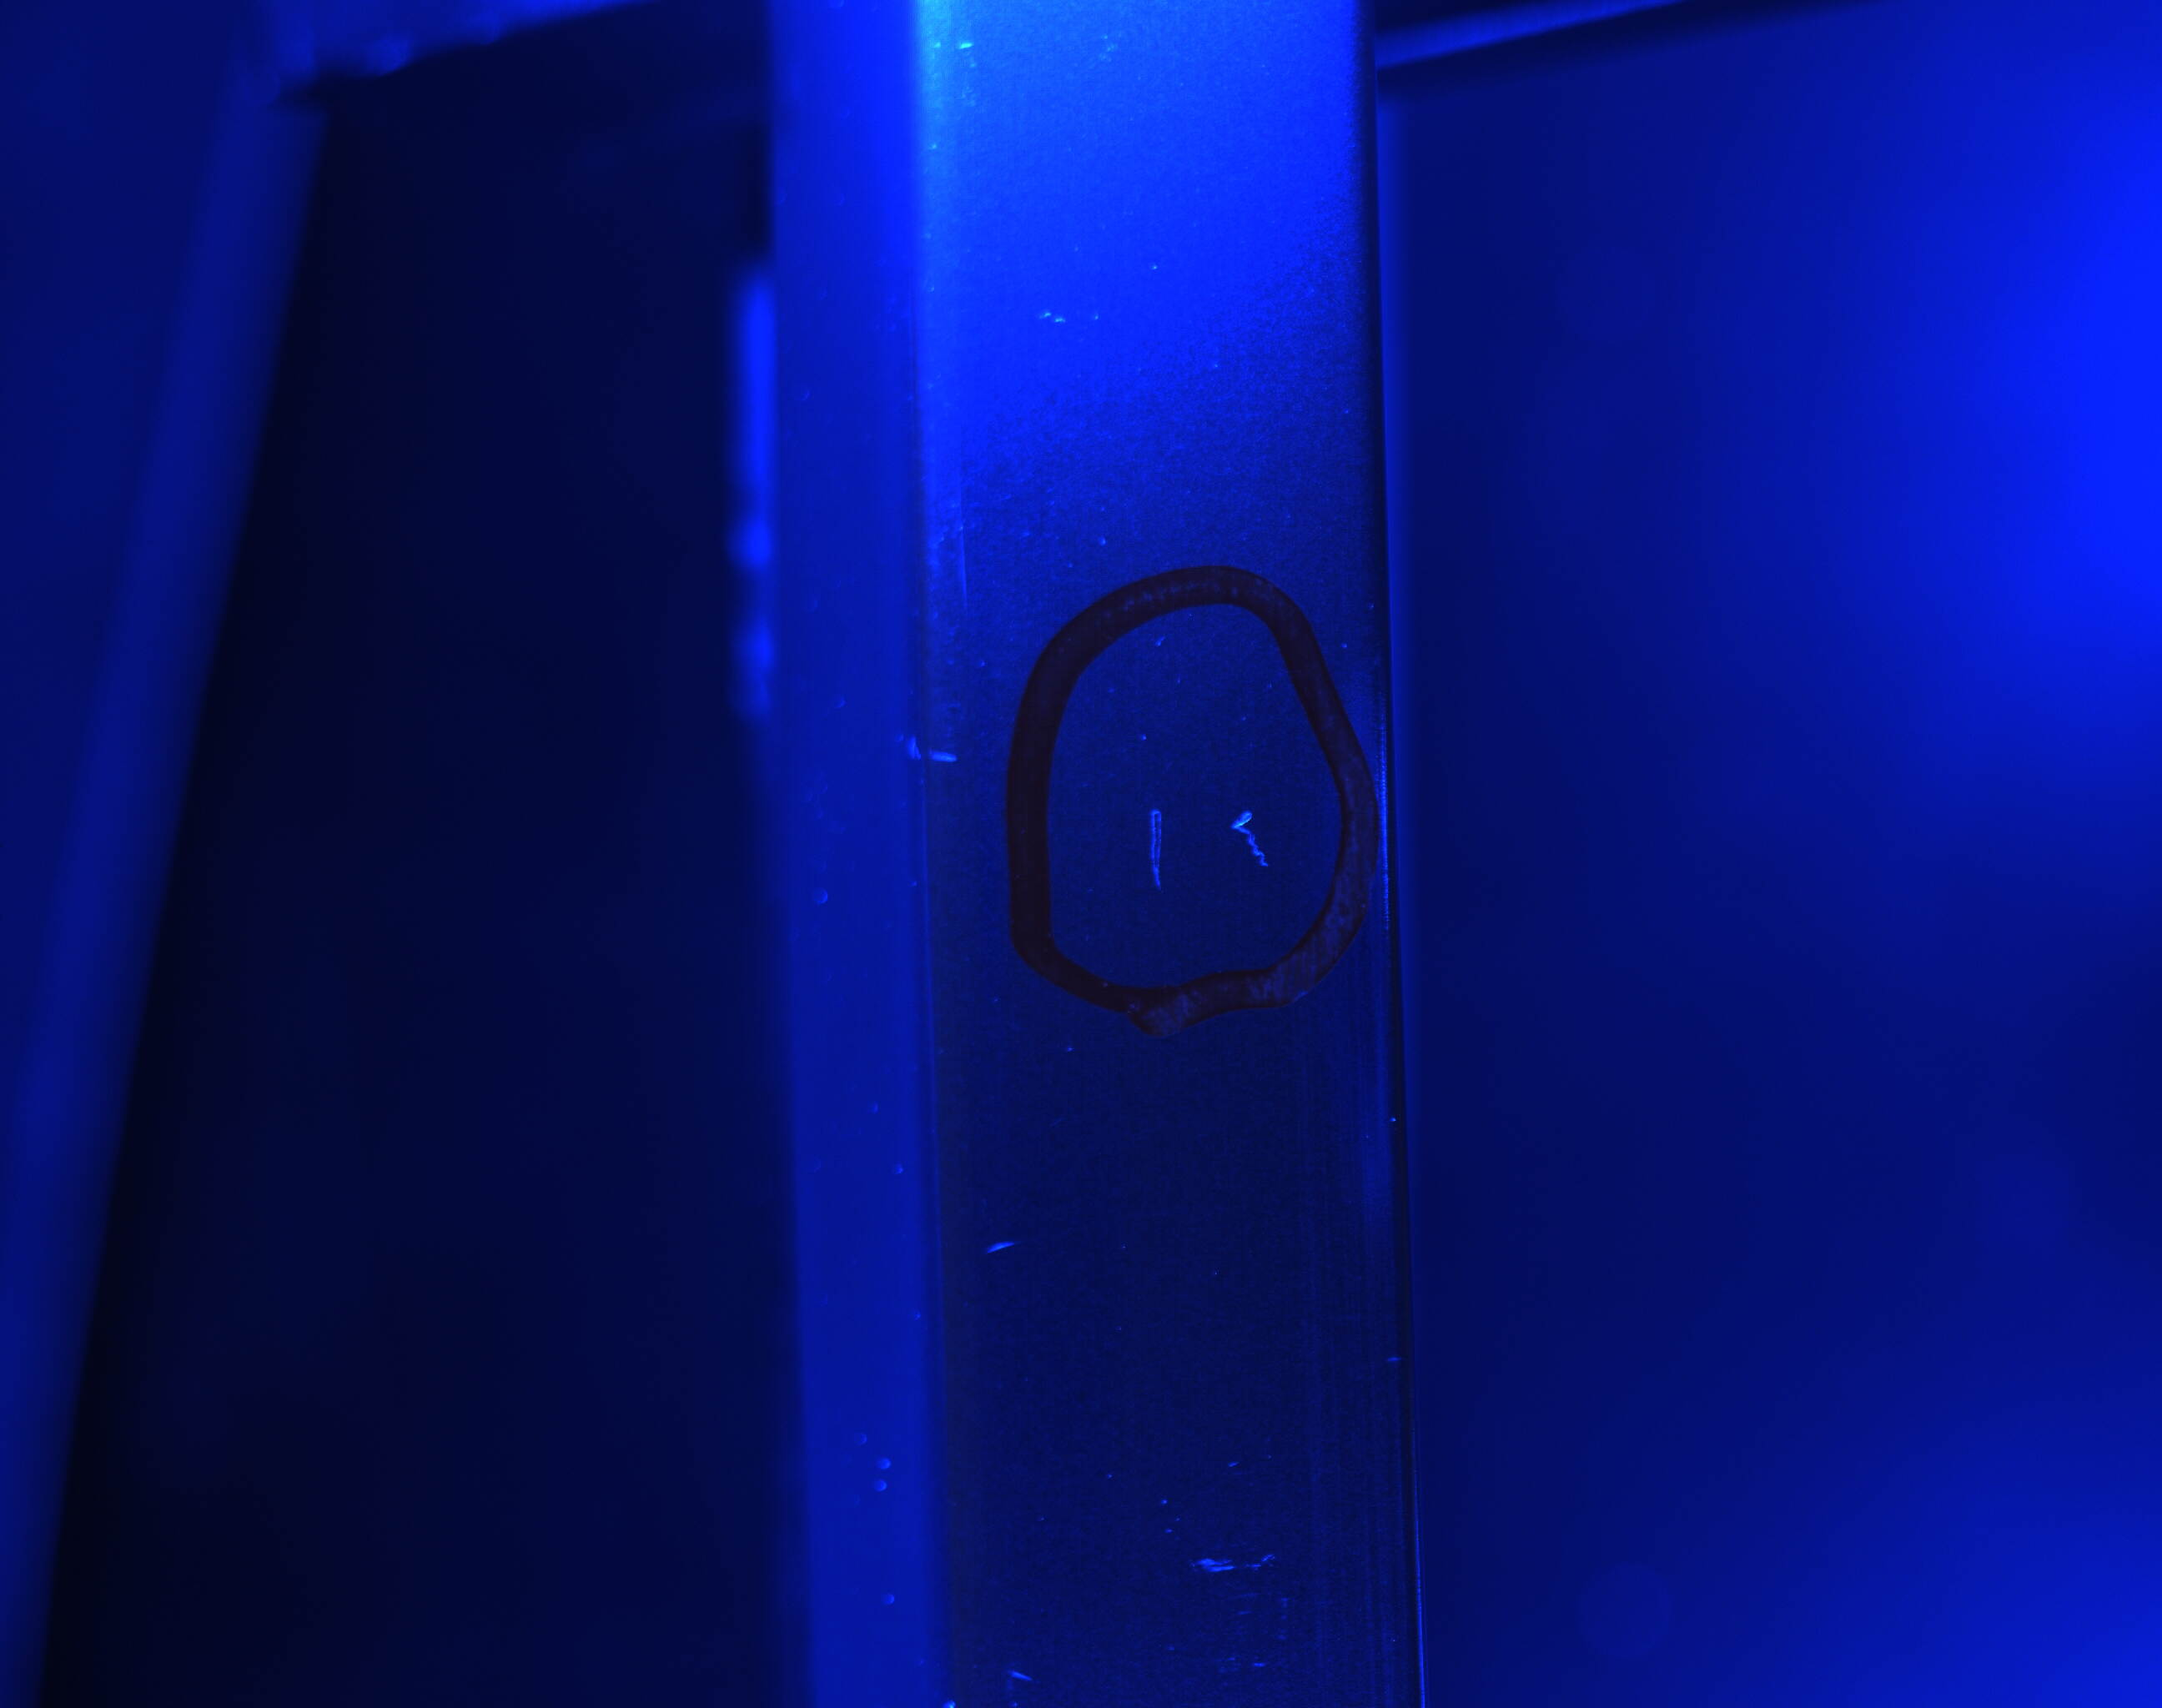NG: (1139, 771, 1286, 937), (1186, 1531, 1295, 1610), (900, 707, 969, 807), (979, 1224, 1032, 1281)
